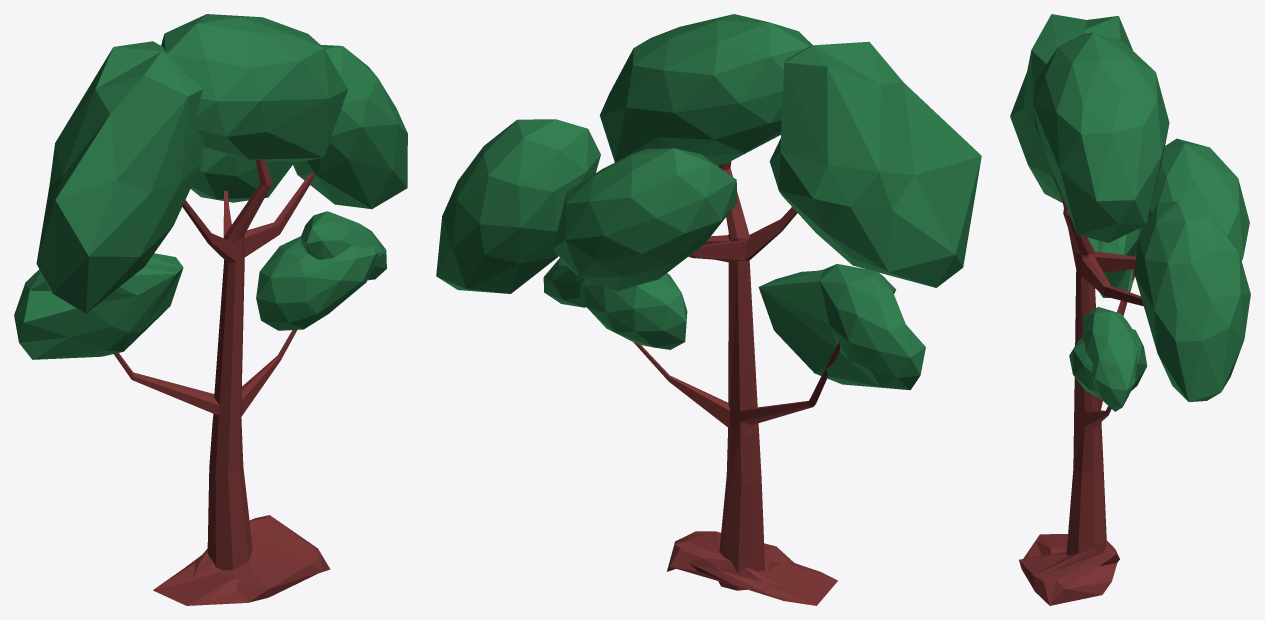
Rendered from tree_01.FBX.
3 renders of one model, left to right at view 1: azimuth 30°, elevation 25°; view 2: azimuth 150°, elevation 25°; view 3: azimuth 270°, elevation 25°, orthographic. The views are drawn at different scales.
Parts seen in each view (by area): view 1: tree_01; view 2: tree_01; view 3: tree_01.
Part boxes in pixels (x1,y1,x2,y2): tree_01: (14,14,407,605); tree_01: (436,14,981,605); tree_01: (1010,14,1250,605).
Size of the model in its own units: 8.12 by 9.91 by 4.14.
1 material, 1 textured.
